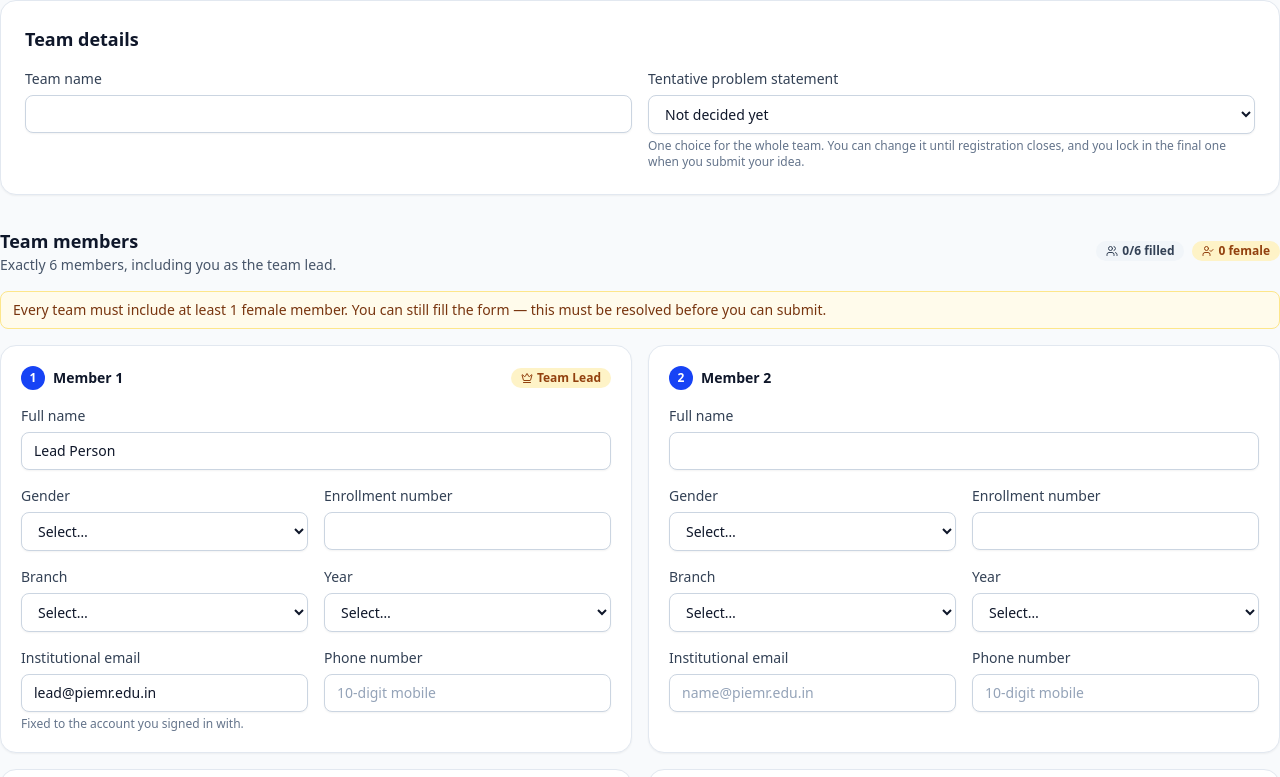
team registration form › warns until a female member is chosen, then stops warning
This screenshot has width=1280, height=777.
Expected: the text "at least 1 female member" is shown, [0, 291, 1279, 329]
Expected: the text "0 female" is shown, [1192, 241, 1279, 261]
Select "Female" in the 1st dropdown labelled "Gender" at (164, 532), box [21, 512, 308, 551]
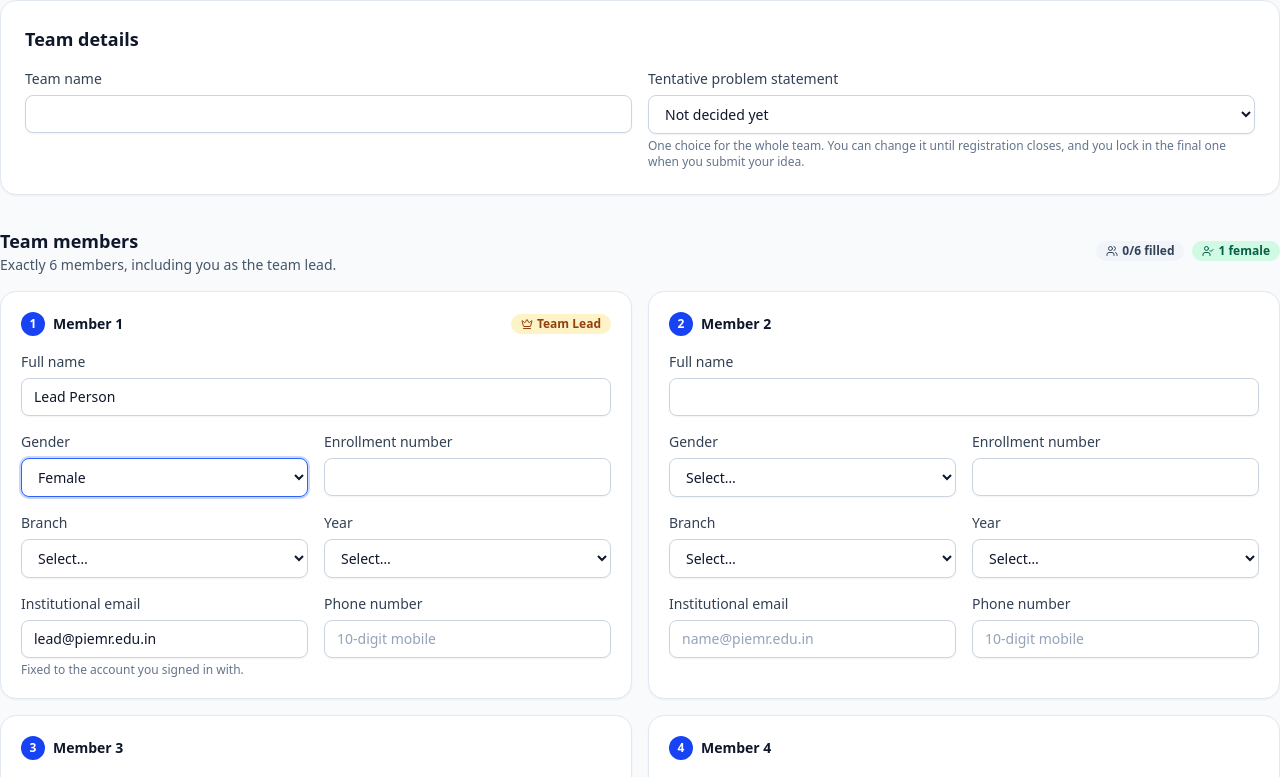
Result: the text "1 female" is shown at [1192, 241, 1279, 261]
Result: the text "at least 1 female member" is gone
